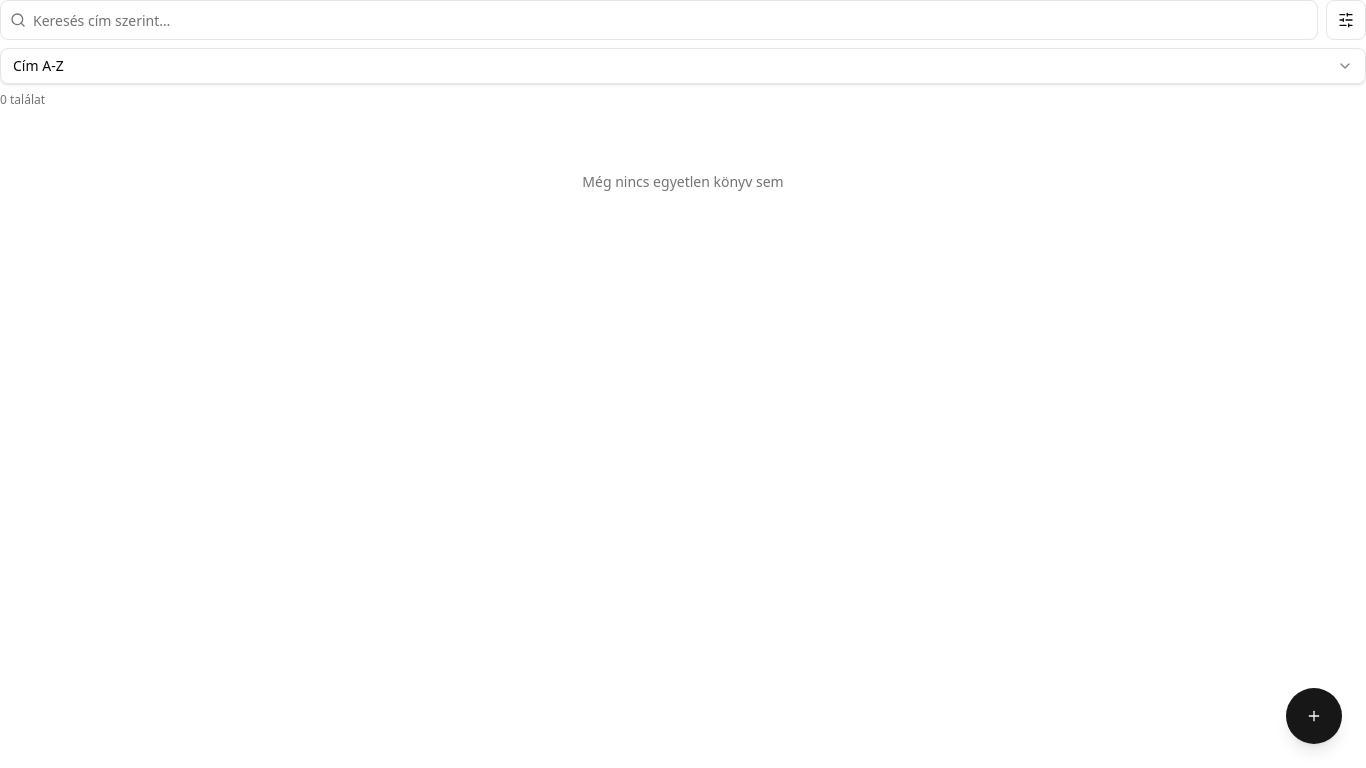
Test: BookCardView — "+ Új könyv" FAB › shows the FAB for ADMIN and opens the add modal
The width and height of the screenshot is (1366, 768).
Click the button named "Új könyv" at (1314, 716), box [1286,688,1342,744]
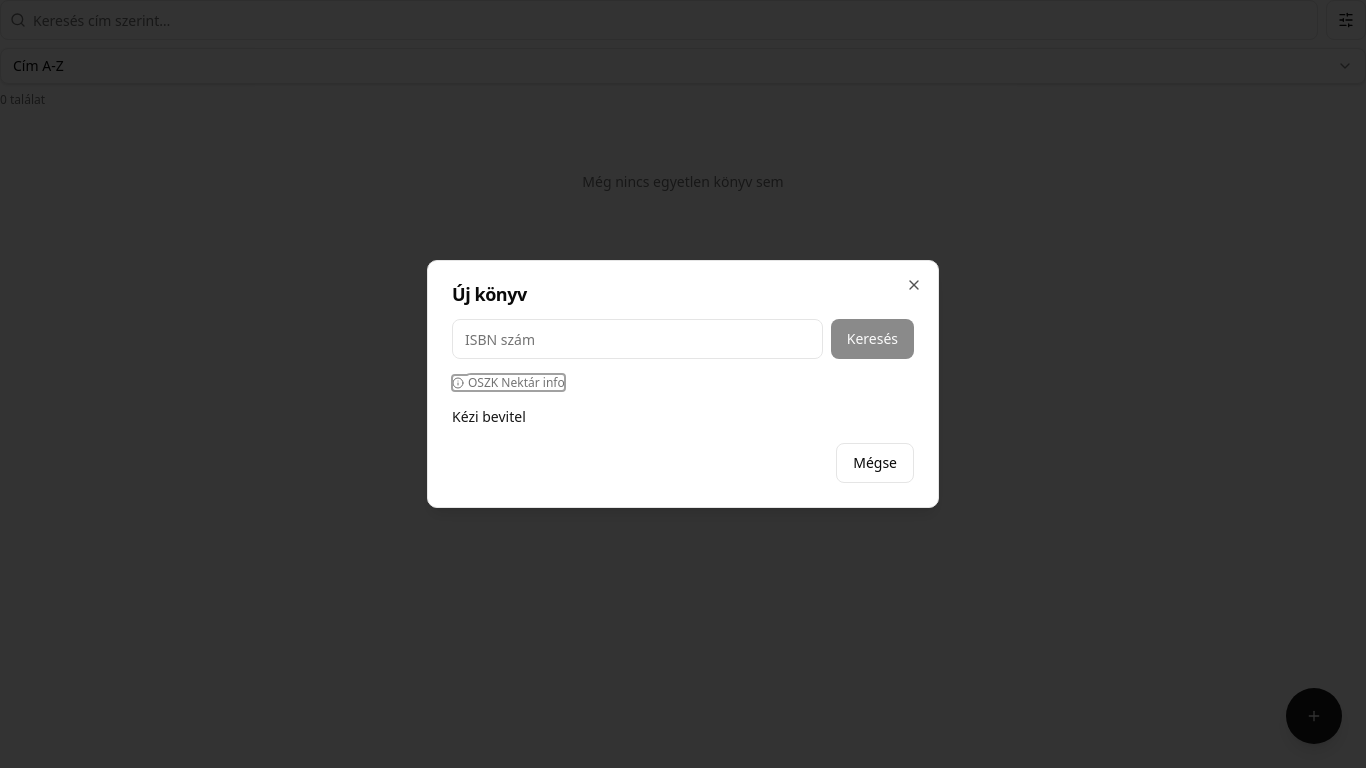
Now the dialog is shown, box [427,260,939,508]
